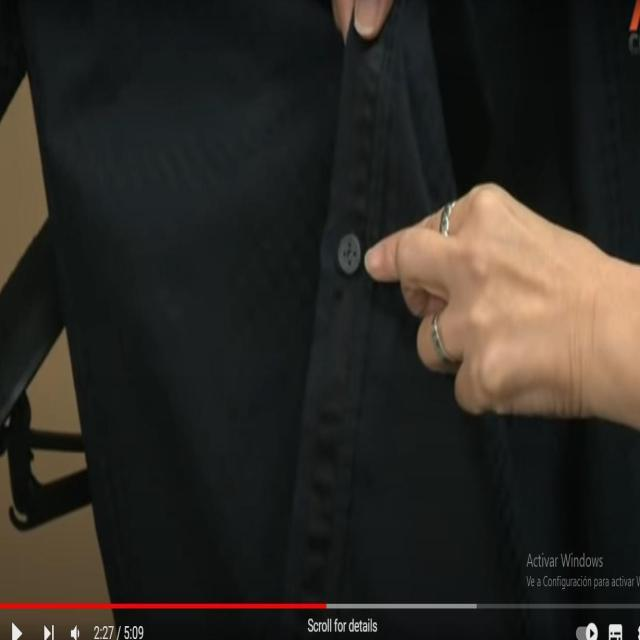hidden camera: (338, 228, 361, 275)
